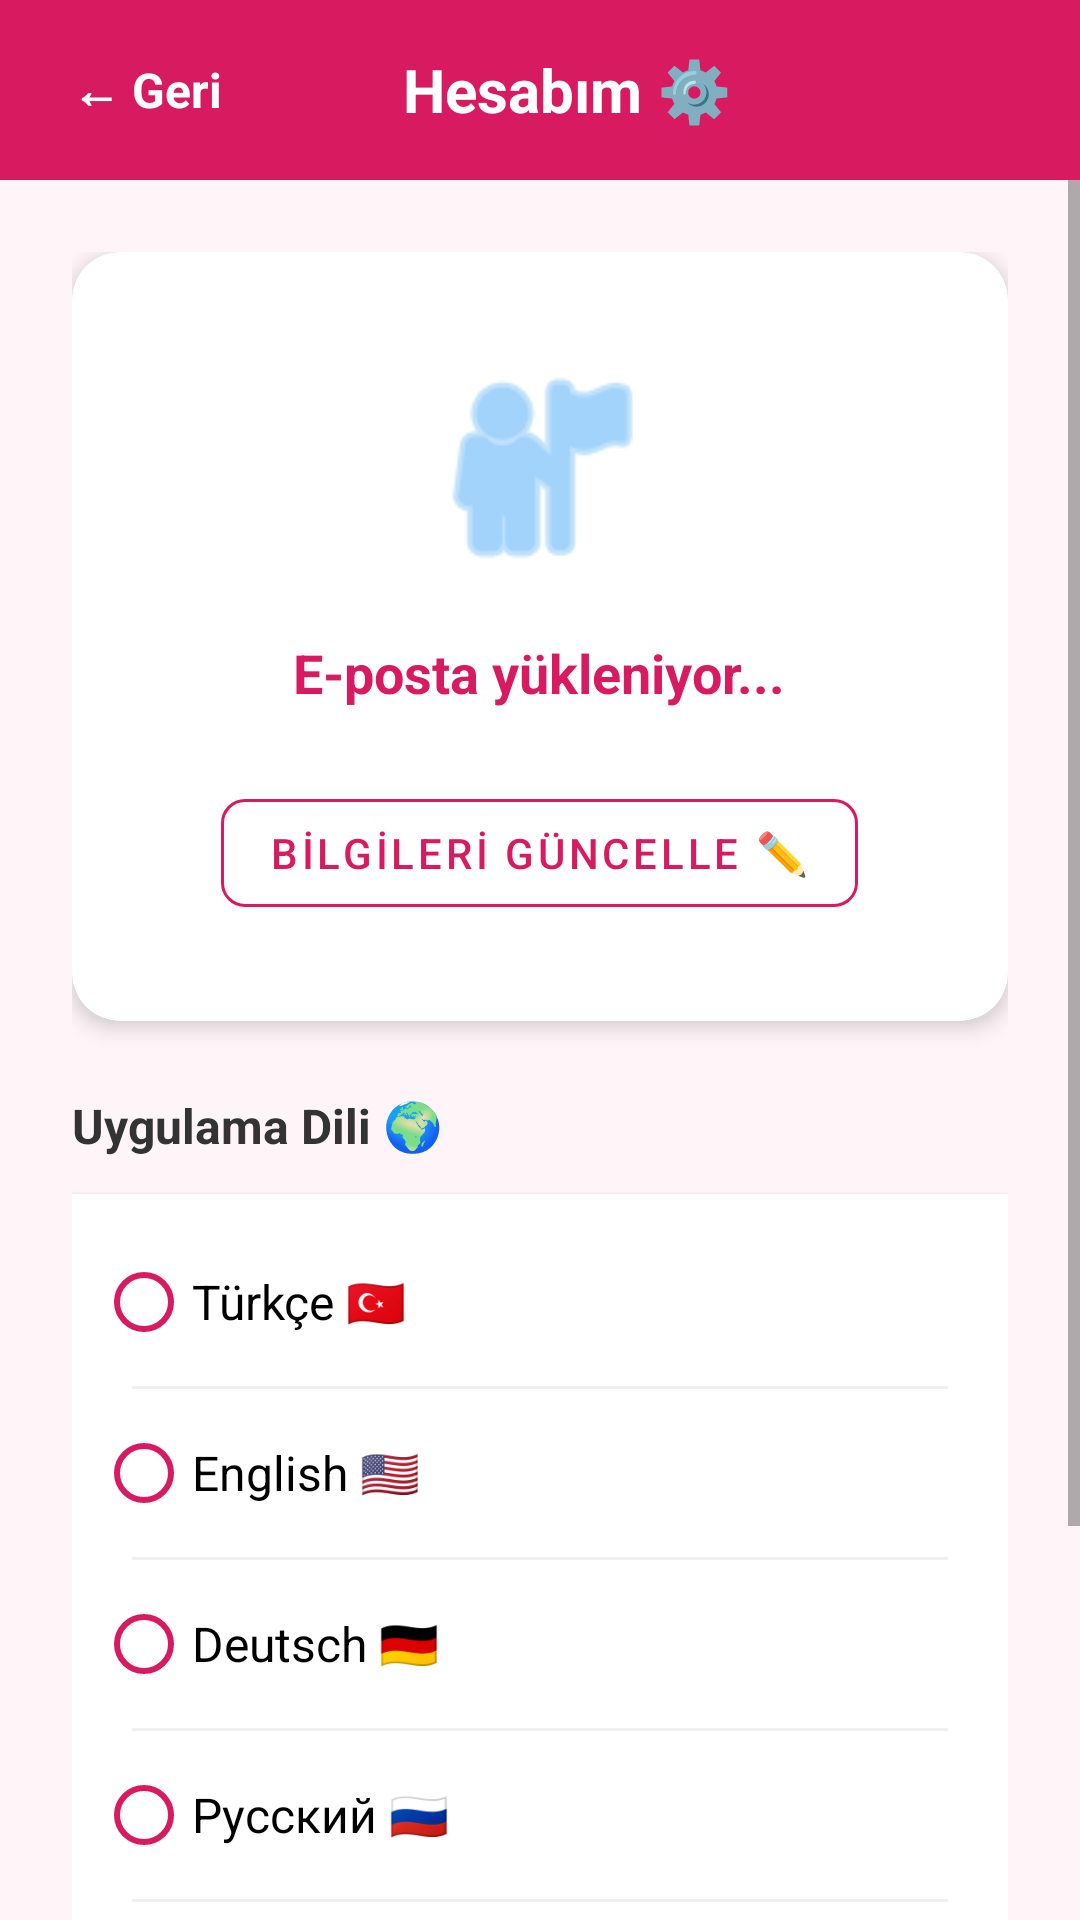

Icon click points for this 1080w x 1920h phone screenshot, format point (x, y):
myplaces: point (542, 468)
